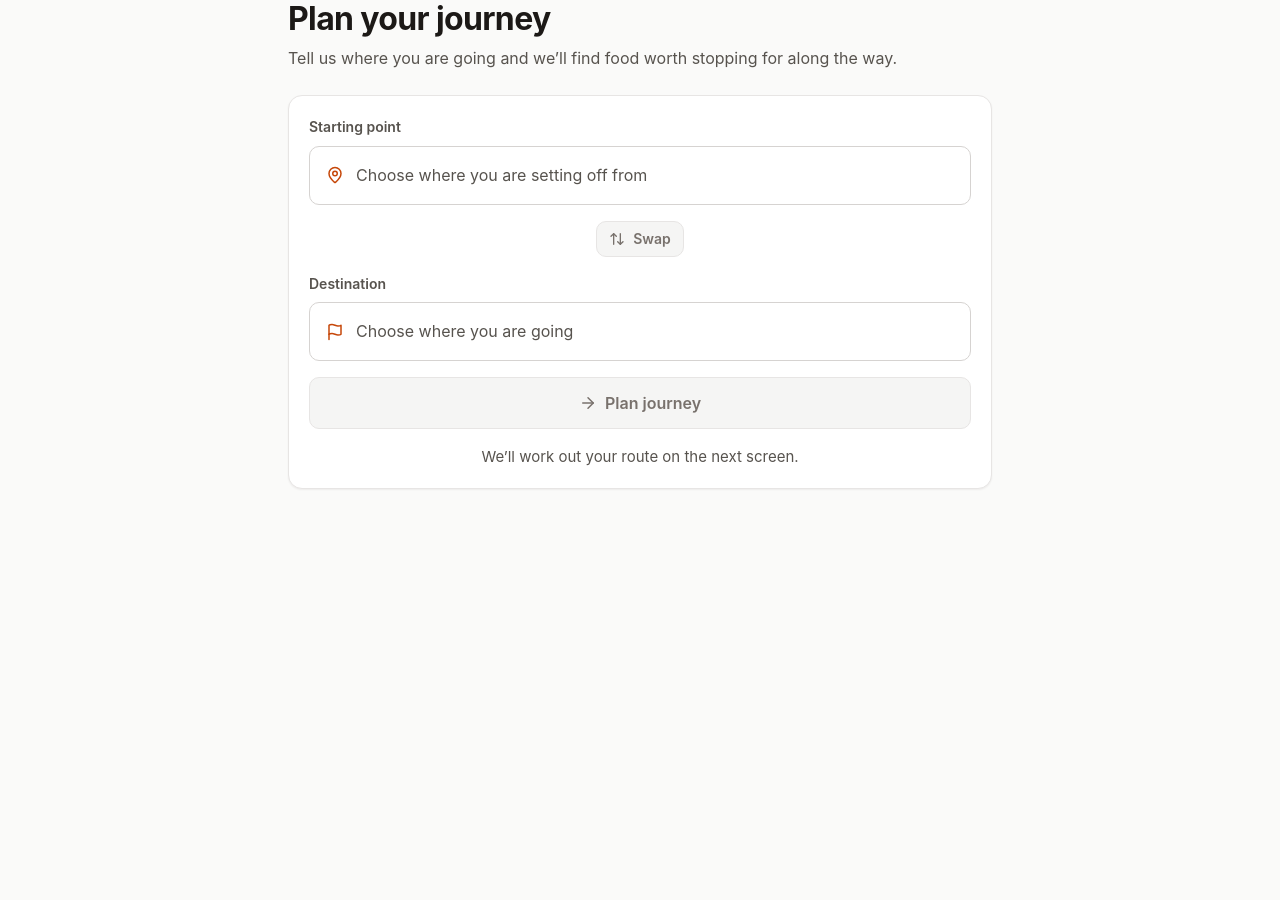
Test: TripPlannerScreen › offers Home, Work and Other from the saved addresses
Click the button with aria-label "Starting point" at (640, 175), box [309,146,971,205]
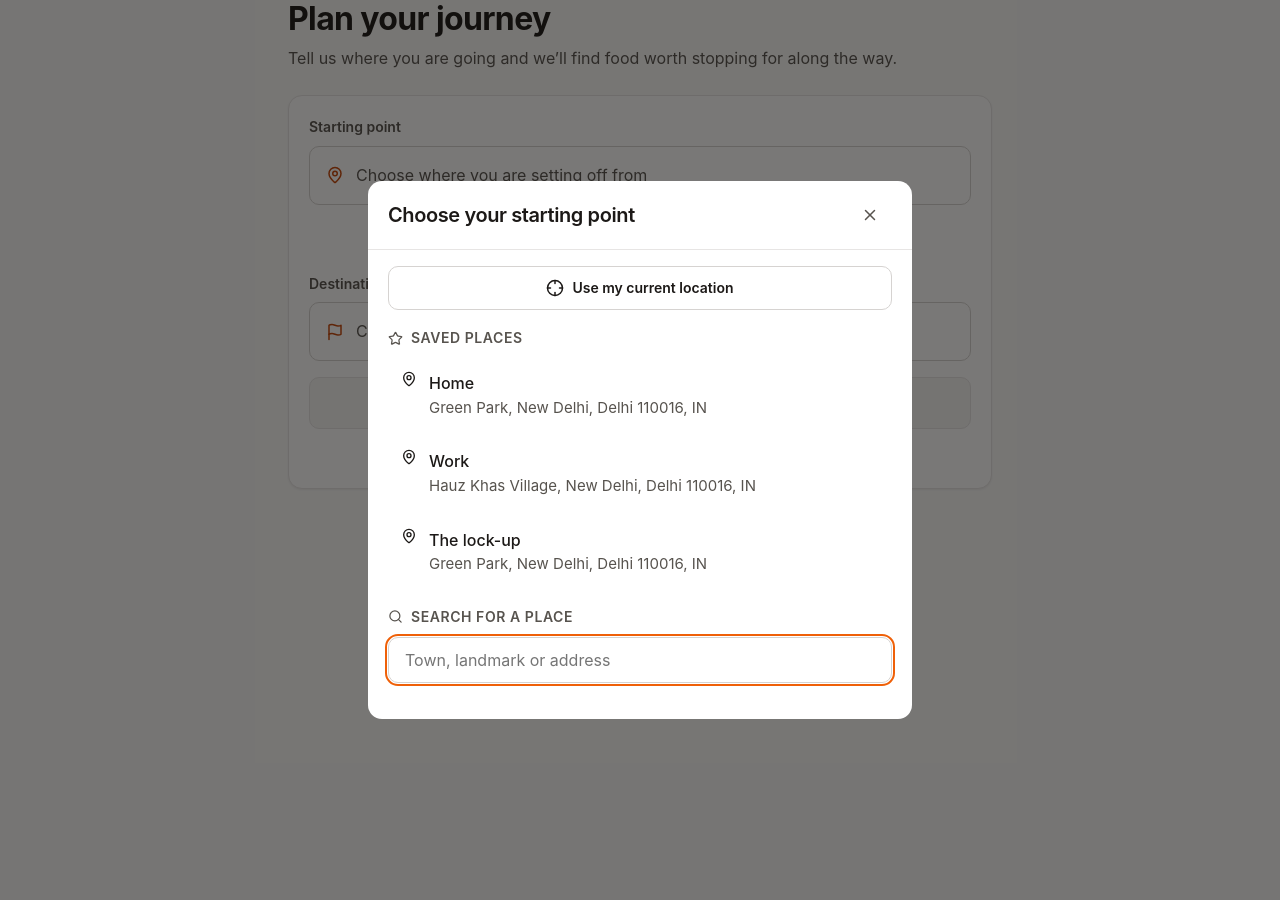
Now the button "Home Green Park, New Delhi, Delhi 110016, IN" is shown, box [388,358,892,432]
Now the button "Work Hauz Khas Village, New Delhi, Delhi 110016, IN" is shown, box [388,436,892,510]
Now the button "The lock-up Green Park, New Delhi, Delhi 110016, IN" is shown, box [388,514,892,588]
